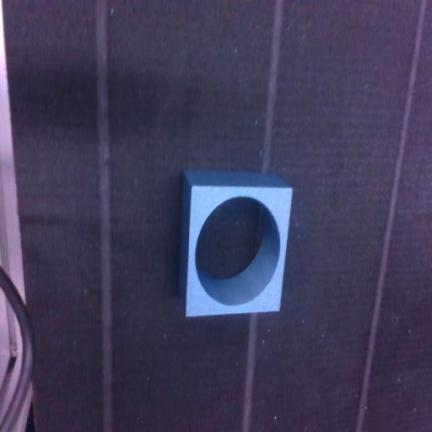hole: (180, 171, 291, 316)
